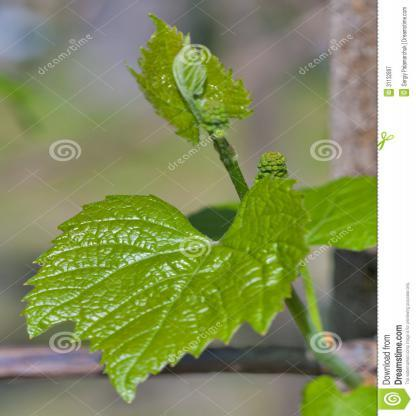grape leaf black rot: (6, 176, 306, 404)
